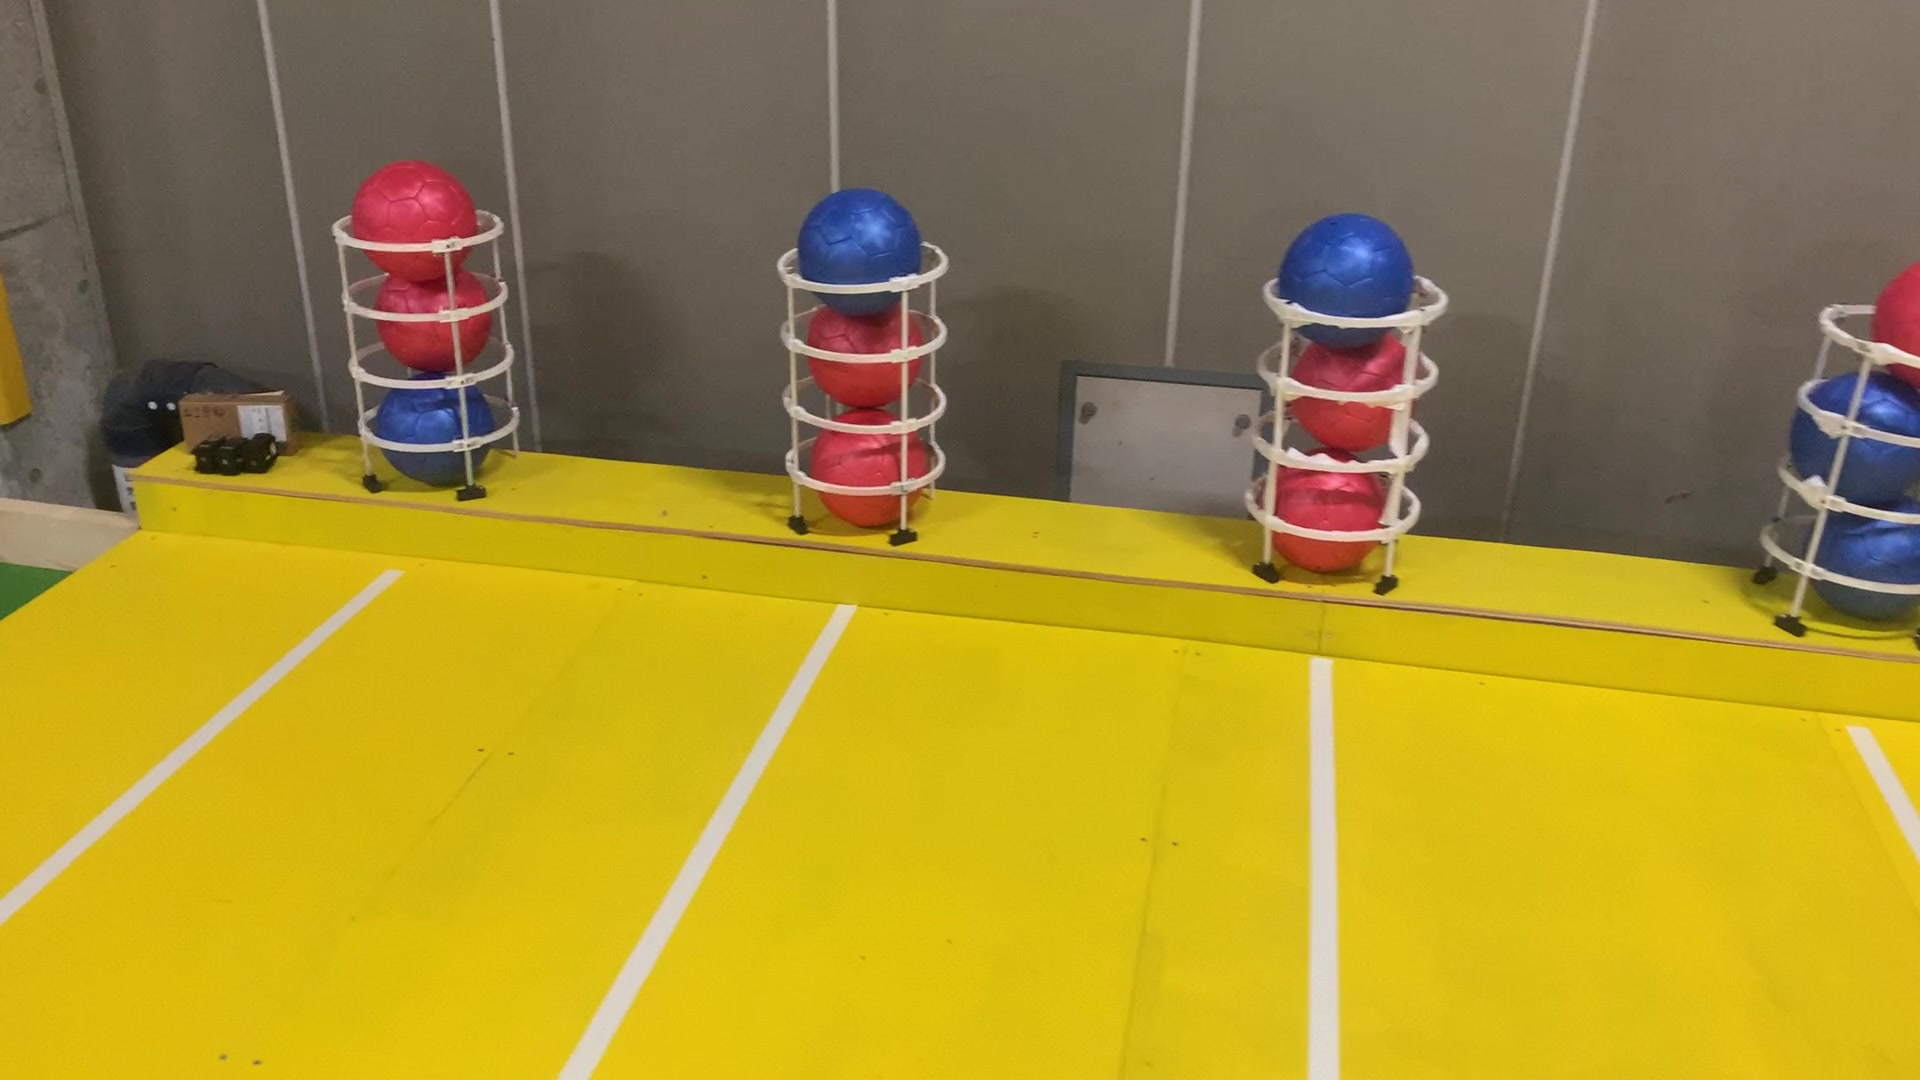blue: (1271, 204, 1415, 345), (1791, 361, 1920, 512), (794, 182, 919, 316), (377, 380, 505, 492), (1820, 483, 1920, 620)
red: (1292, 319, 1424, 452), (1261, 443, 1387, 575), (810, 401, 932, 534), (343, 161, 477, 280), (373, 252, 492, 373), (803, 298, 928, 411), (1873, 252, 1917, 401)
